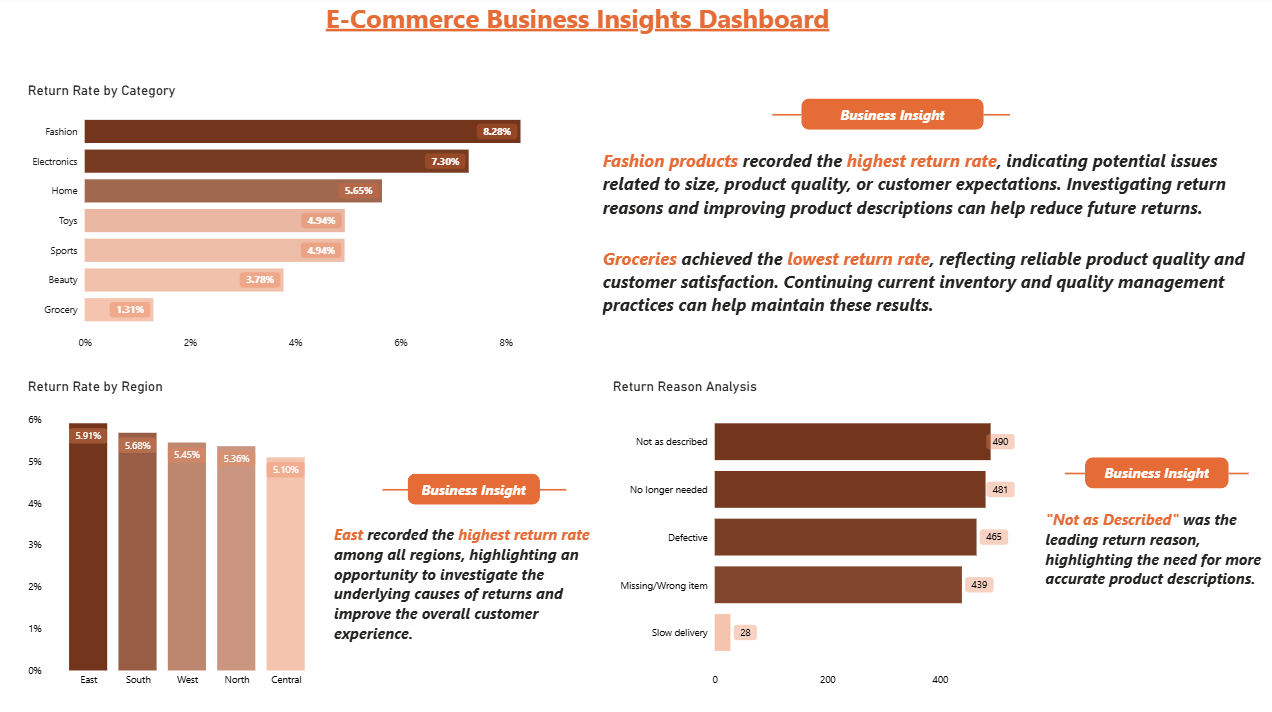

Layout of this report page (visuals, bound fields, positions):
{"tool":"powerbi","page":{"name":"Customer & Returns Analysis","canvas":[1600,900],"ordinal":2},"visuals":[{"type":"textbox","box":[9.6,0,1270.7,148.2],"z":0},{"type":"shape","box":[1002.9,127.5,227,38.9],"z":1000},{"type":"shape","box":[967.2,88.6,35.8,118.2],"z":2000},{"type":"shape","box":[1230,88.6,32.7,118.2],"z":3000},{"type":"textbox","box":[751,185,849,217.7],"z":4000},{"type":"clusteredBarChart","title":"Return Rate by Category","fields":{"Category":["Ecommerce Data.category"],"Y":["Ecommerce Data.Return Rate"]},"box":[35.8,107.3,674.8,342.1],"z":5000},{"type":"clusteredColumnChart","title":"Return Rate by Region","fields":{"Y":["Ecommerce Data.Return Rate"],"Category":["Ecommerce Data.region"]},"box":[35.8,475.8,381,393.4],"z":6000},{"type":"textbox","box":[416.7,651.5,357.6,217.7],"z":7000},{"type":"shape","box":[513.1,594,164.8,38.9],"z":8000},{"type":"shape","box":[678,555.1,32.7,118.2],"z":9000},{"type":"shape","box":[482,555.1,32.7,118.2],"z":10000},{"type":"barChart","title":"Return Reason Analysis","fields":{"Category":["Ecommerce Data.return_reason"],"Y":["Ecommerce Data.Return Count"]},"box":[763.5,475.8,516.2,393.4],"z":11000},{"type":"textbox","box":[1301.5,632.9,290.8,175.7],"z":12000},{"type":"shape","box":[1355.9,573.8,178.8,38.9],"z":13000},{"type":"shape","box":[1534.7,534.9,24.9,118.2],"z":13001},{"type":"shape","box":[1331,534.9,24.9,118.2],"z":13002}]}

Visuals, with their boxes in screenshot pixels (x1, y1, x2, y2), scaled from the page's 1600x900 canvas onto the 1272x712 screenshot:
textbox: bbox=(8, 0, 1018, 117)
shape: bbox=(797, 101, 978, 132)
shape: bbox=(769, 70, 797, 164)
shape: bbox=(978, 70, 1004, 164)
textbox: bbox=(597, 146, 1271, 319)
"Return Rate by Category" clusteredBarChart: bbox=(28, 85, 565, 356)
"Return Rate by Region" clusteredColumnChart: bbox=(28, 376, 331, 688)
textbox: bbox=(331, 515, 616, 688)
shape: bbox=(408, 470, 539, 501)
shape: bbox=(539, 439, 565, 533)
shape: bbox=(383, 439, 409, 533)
"Return Reason Analysis" barChart: bbox=(607, 376, 1017, 688)
textbox: bbox=(1035, 501, 1266, 640)
shape: bbox=(1078, 454, 1220, 485)
shape: bbox=(1220, 423, 1240, 517)
shape: bbox=(1058, 423, 1078, 517)
